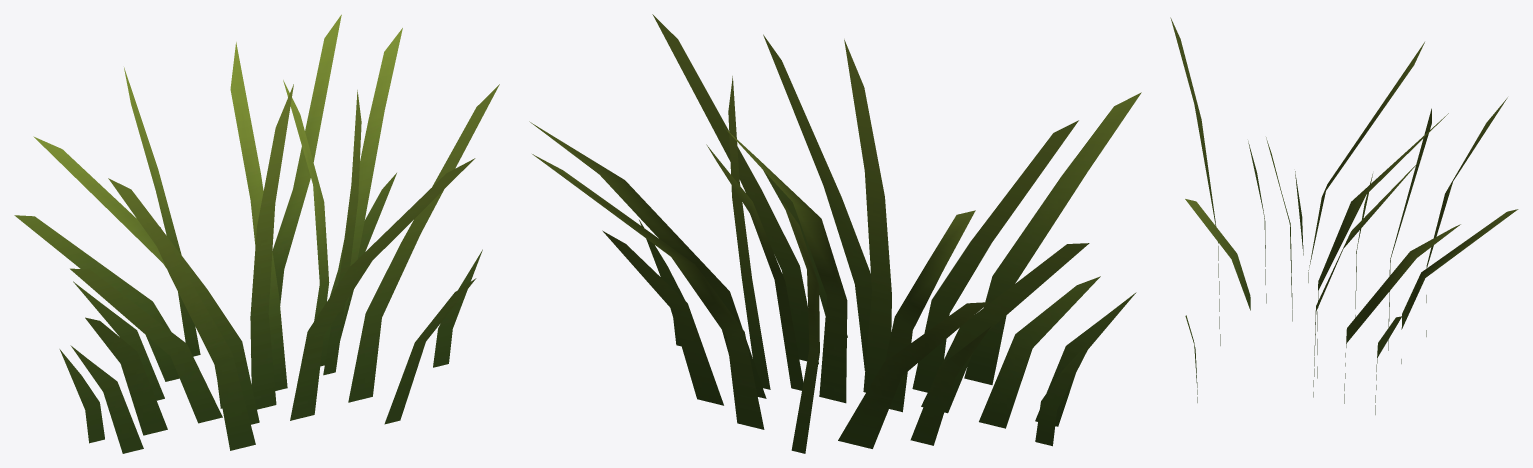
Rendered from Grass_Large.glb.
3 views of the same model, side by side, from view 1: azimuth 30°, elevation 25°; view 2: azimuth 150°, elevation 25°; view 3: azimuth 270°, elevation 25° (orthographic). The views are drawn at different scales.
Parts seen in each view (by area): view 1: Grass_Large; view 2: Grass_Large; view 3: Grass_Large.
Part boxes in pixels (x1,y1,x2,y2): Grass_Large: [14, 14, 499, 453]; Grass_Large: [529, 14, 1141, 453]; Grass_Large: [1170, 17, 1518, 414].
Bounding box in the file's own units: 0.7085 × 0.4851 × 0.498.
1 material, 1 textured.
